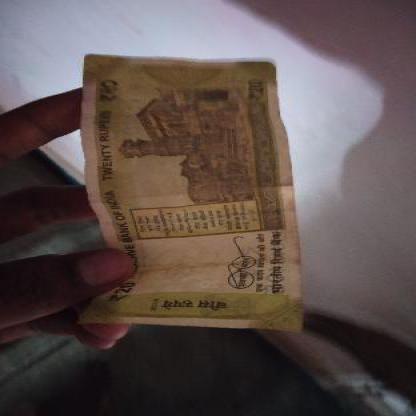New20Back: (82, 55, 298, 324)
